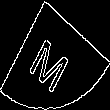M_NE: (31, 21, 79, 89)
